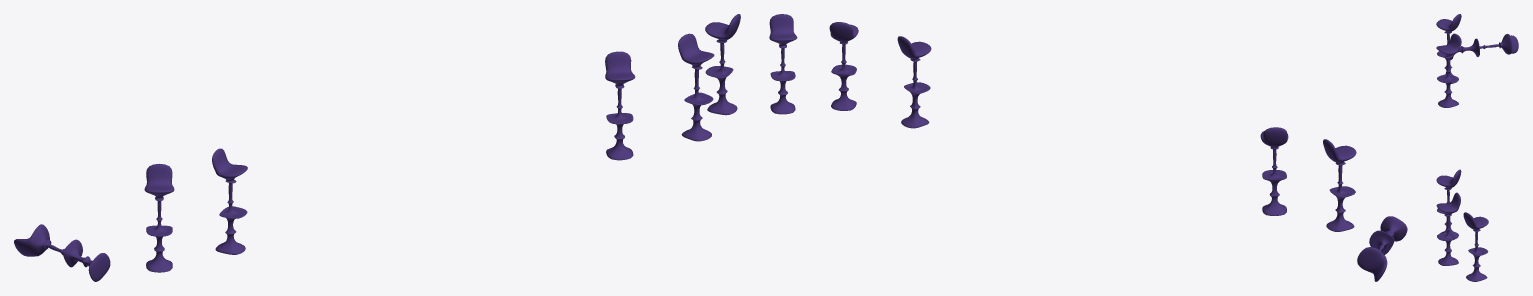
Rendered from kszesla.fbx.
3 renders of one model, left to right at view 1: azimuth 30°, elevation 25°; view 2: azimuth 150°, elevation 25°; view 3: azimuth 270°, elevation 25°, orthographic. The views are drawn at different scales.
Visible parts, largest first — view 1: krzeslo3, krzeslo2, krzeslo4, krzeslo5, krzeslo, krzeslo6; view 2: krzeslo3, krzeslo6, krzeslo4, krzeslo2, krzeslo5, krzeslo; view 3: krzeslo, krzeslo6, krzeslo5, krzeslo3, krzeslo2, krzeslo4.
Part boxes in pixels (<box>): krzeslo3: <box>14,224,110,281</box>; krzeslo2: <box>144,163,174,272</box>; krzeslo4: <box>605,51,635,160</box>; krzeslo5: <box>678,33,714,141</box>; krzeslo: <box>212,148,247,254</box>; krzeslo6: <box>705,14,740,115</box>; krzeslo3: <box>1357,216,1407,281</box>; krzeslo6: <box>769,14,797,114</box>; krzeslo4: <box>897,36,931,128</box>; krzeslo2: <box>1323,139,1356,231</box>; krzeslo5: <box>829,22,858,110</box>; krzeslo: <box>1260,127,1288,215</box>; krzeslo: <box>1436,33,1461,107</box>; krzeslo6: <box>1463,212,1488,281</box>; krzeslo5: <box>1436,192,1460,265</box>; krzeslo3: <box>1447,34,1518,60</box>; krzeslo2: <box>1436,14,1461,83</box>; krzeslo4: <box>1436,169,1461,238</box>.
Size of the model in its own units: 2527 by 346 by 372.
